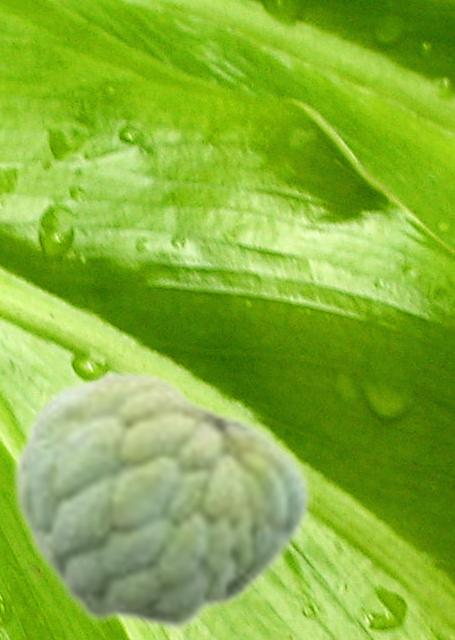atis: (9, 366, 311, 633)
